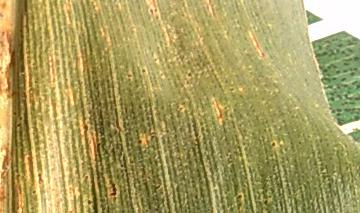tarspot: (107, 179, 120, 202), (267, 138, 280, 150), (138, 63, 147, 80), (83, 196, 95, 208), (184, 67, 195, 80), (235, 191, 246, 203), (14, 120, 25, 131), (135, 135, 144, 148), (28, 185, 38, 196), (125, 70, 134, 82), (8, 108, 20, 116)
